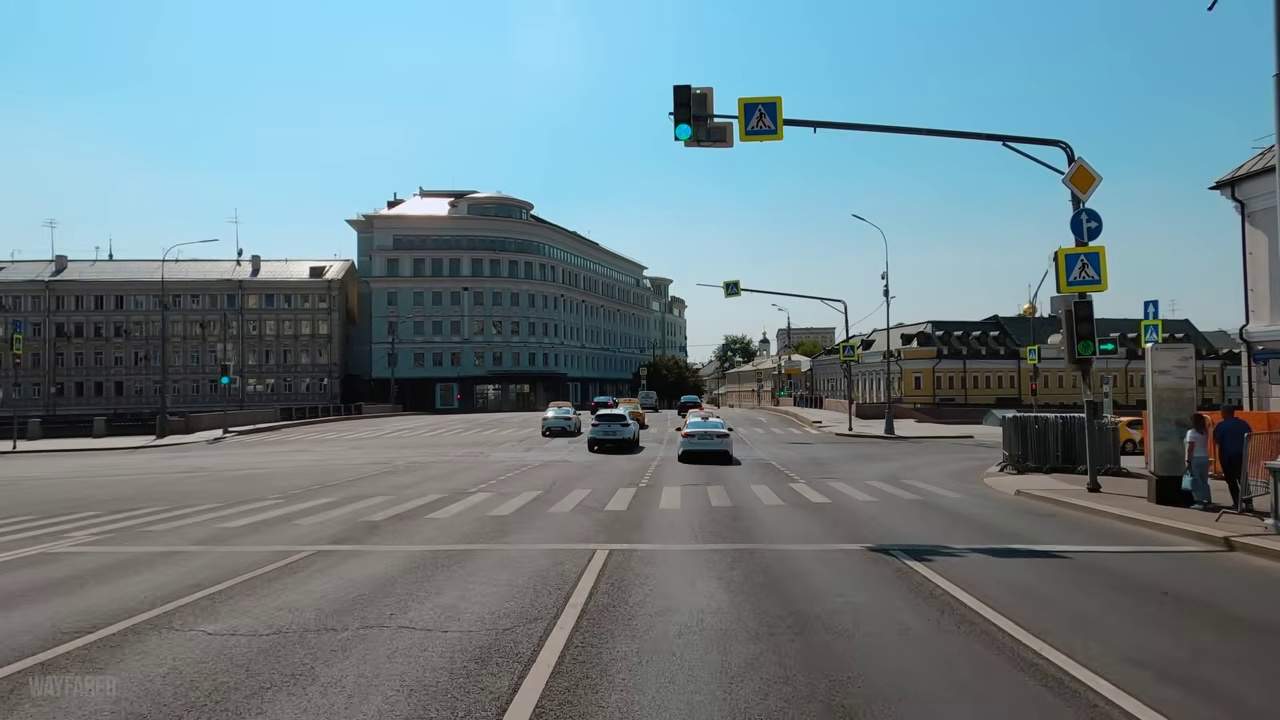apagada: (847, 209, 868, 228)
